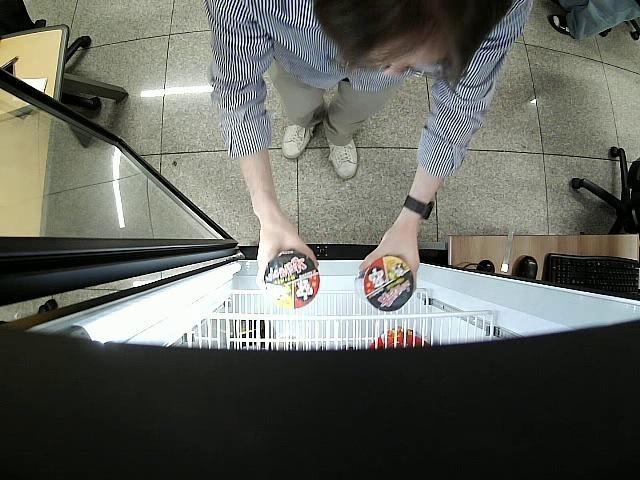08_buldak_S: (264, 252, 321, 310), (359, 255, 414, 312)
